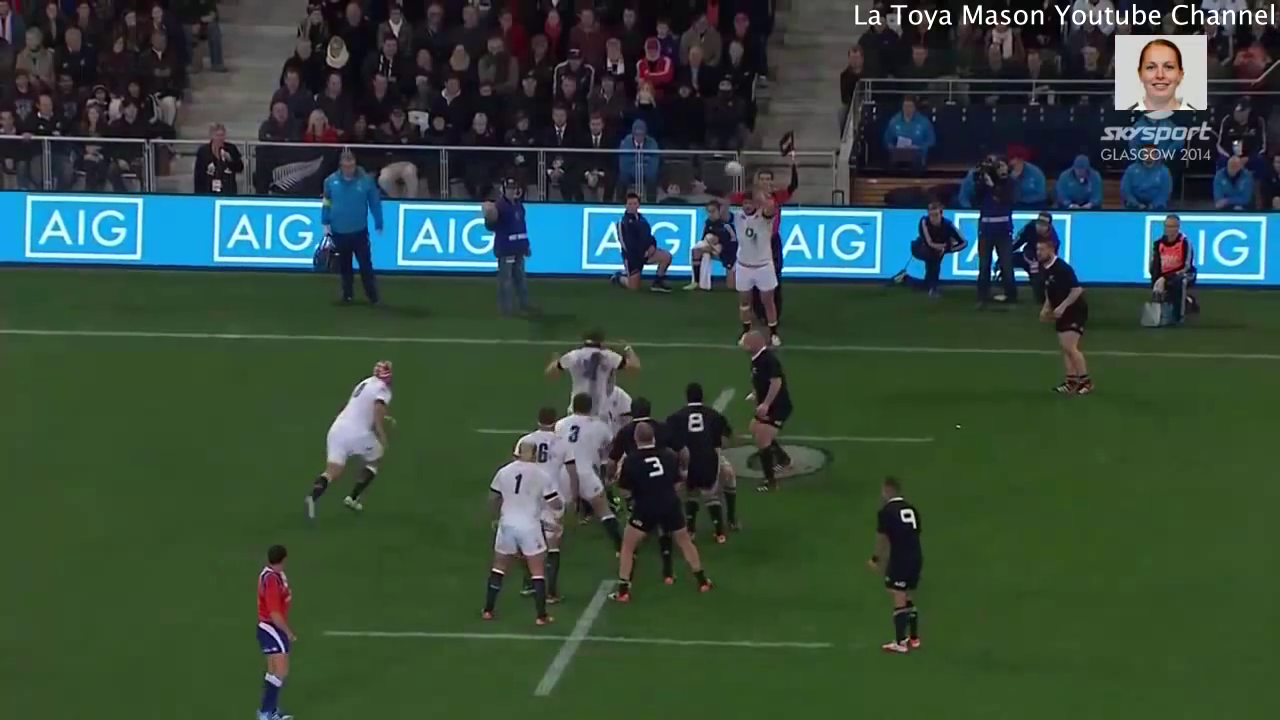10_metre: (315, 571, 840, 707), (453, 369, 948, 507)
ball: (719, 154, 750, 191)
lineout: (460, 320, 795, 649)
player: (600, 412, 726, 611), (293, 348, 411, 524), (852, 467, 947, 665), (469, 432, 559, 632), (539, 384, 635, 560), (653, 358, 737, 544), (709, 174, 788, 356), (728, 321, 806, 500), (1026, 232, 1101, 409), (242, 540, 307, 720), (538, 321, 647, 412), (507, 399, 585, 512)
